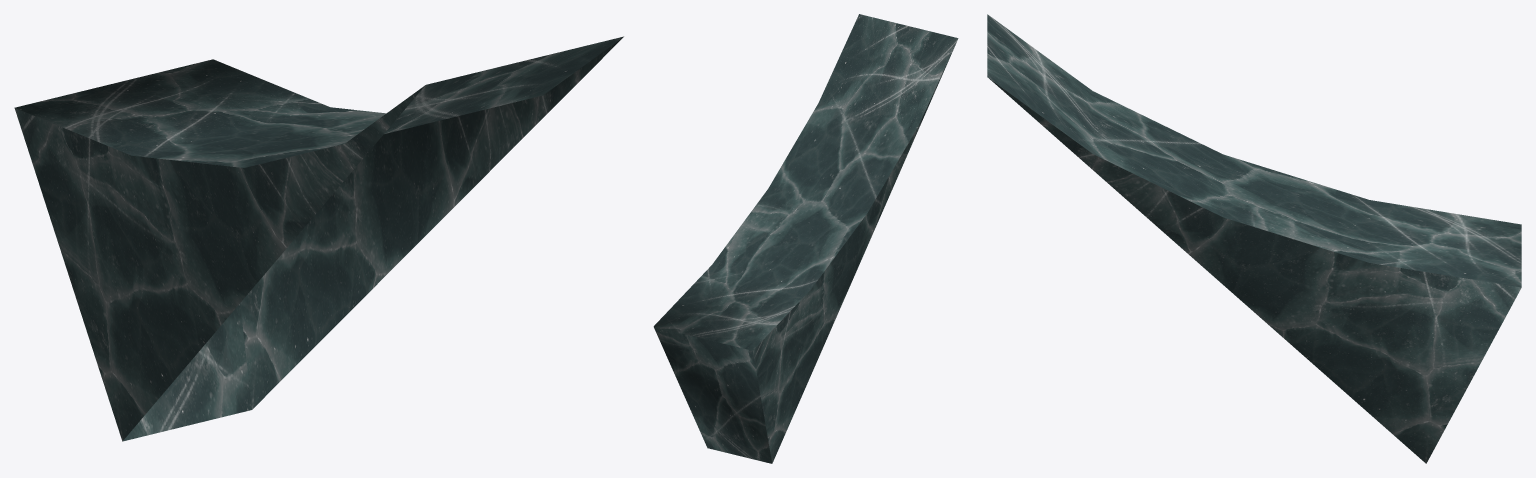
File: Dragonfly_IceSlide_Straight_Ramp_Small_Thin.fbx
The picture shows the model from 3 angles, left to right: view 1: azimuth 30°, elevation 25°; view 2: azimuth 150°, elevation 25°; view 3: azimuth 270°, elevation 25°; orthographic projection. The views are drawn at different scales.
Parts seen in each view (by area): view 1: Slide Ramp Small Thin; view 2: Slide Ramp Small Thin; view 3: Slide Ramp Small Thin.
Boxes of the visible parts, x1,y1,x2,y2 form: Slide Ramp Small Thin: (14,36,623,441); Slide Ramp Small Thin: (653,14,958,463); Slide Ramp Small Thin: (987,14,1521,463).
Size of the model in its own units: 1.4 by 4.12 by 5.02.
